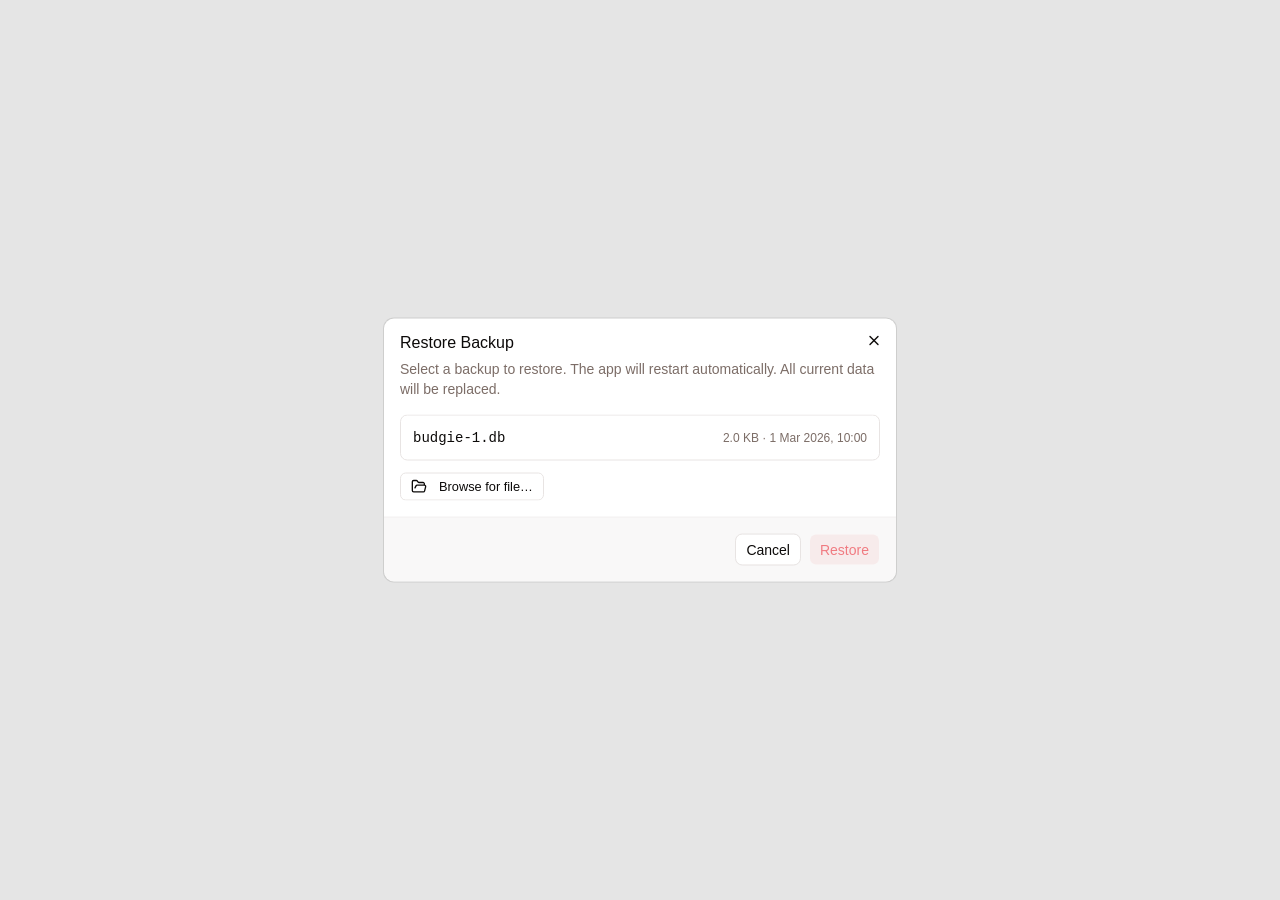
RestoreDialog (desktop dialog) › keeps the dialog and selection when the restore fails
Click the button "budgie-1.db 2.0 KB · 1 Mar 2026, 10:00" at (459, 438), box [401,416,879,460]
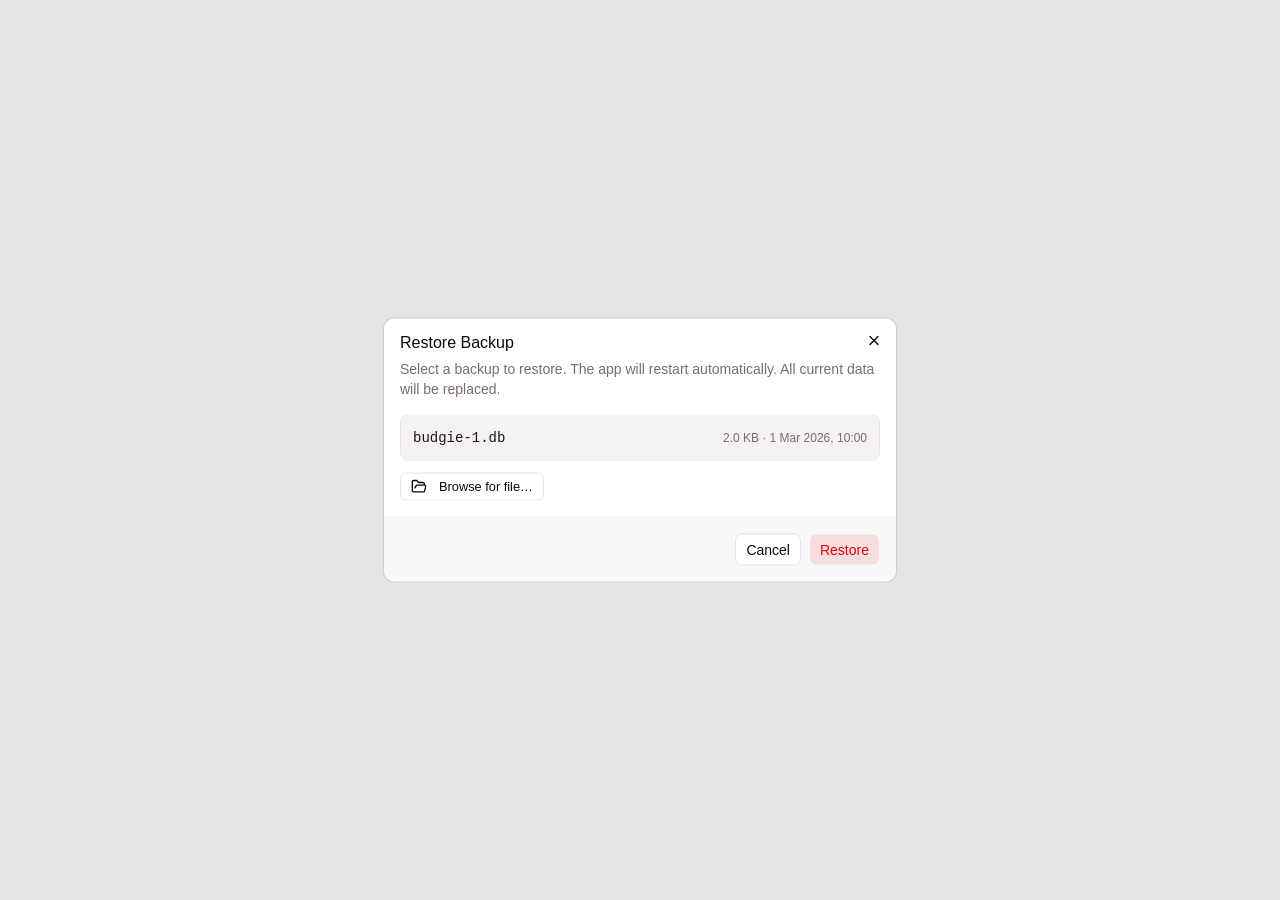
Click the button "Restore" at (844, 550), box [809,534,880,566]
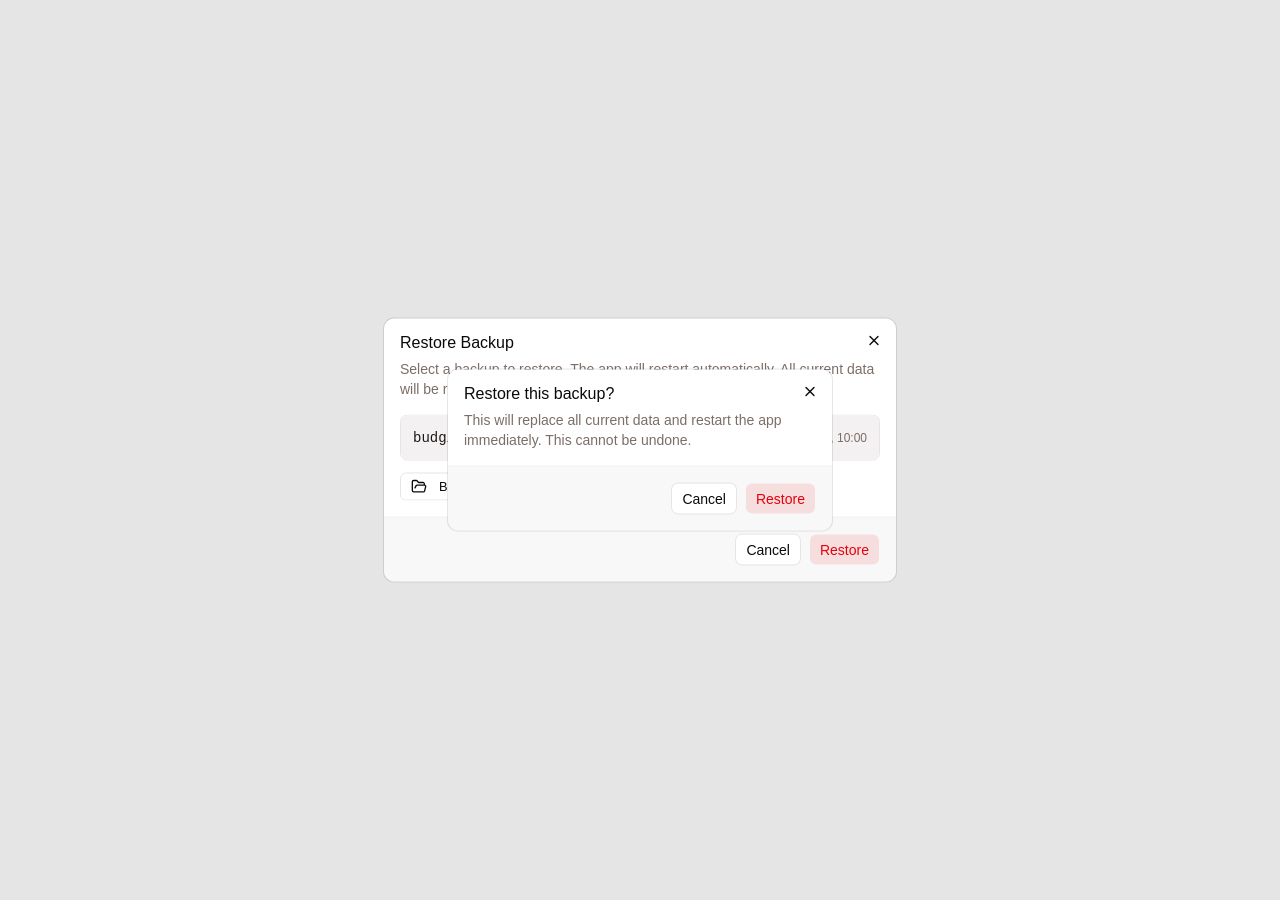
Click the button "Restore" below "Restore this backup?" at (780, 498), box [745,482,816,514]
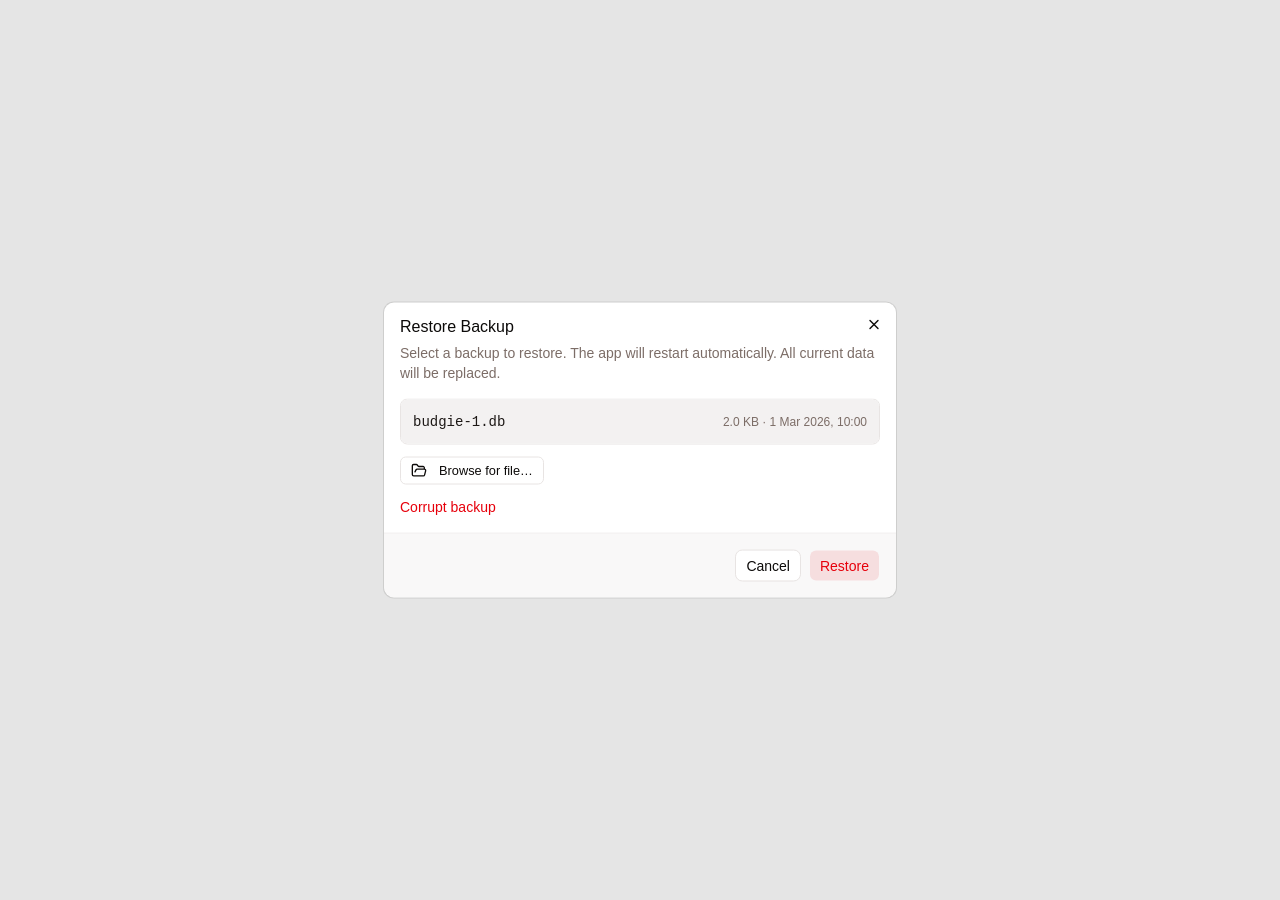
Result: the message reads "Corrupt backup" at [400,498,496,514]
